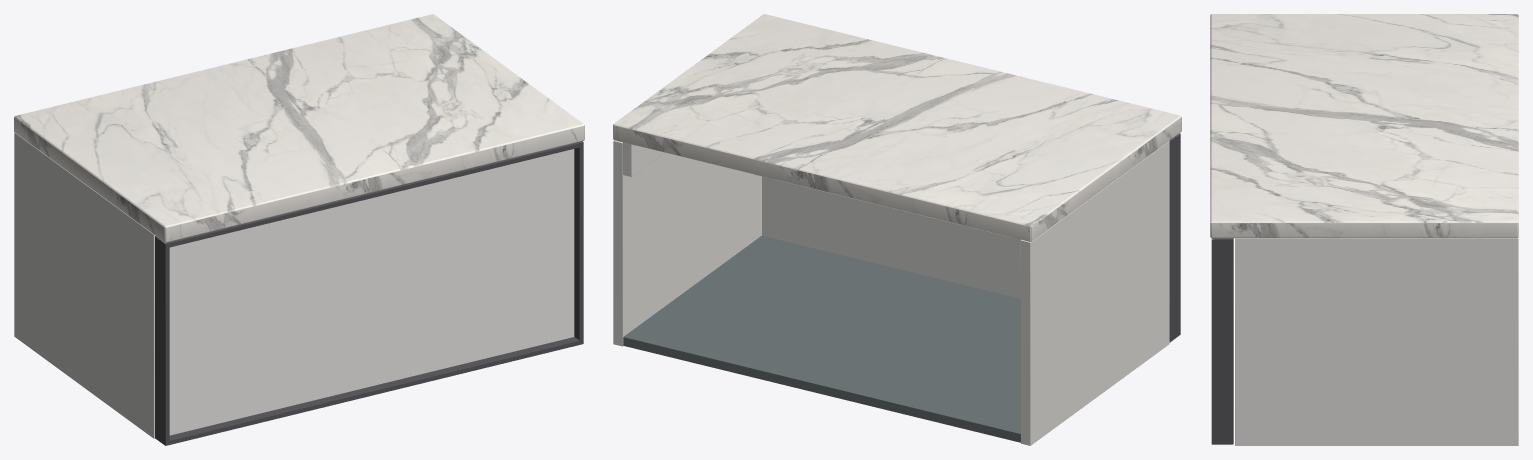
The picture shows the model from 3 angles, left to right: view 1: azimuth 30°, elevation 25°; view 2: azimuth 150°, elevation 25°; view 3: azimuth 270°, elevation 25°; orthographic projection.
Visible parts, largest first — view 1: AT01; view 2: AT01; view 3: AT01.
Boxes of the visible parts, x1=… form: AT01: x1=14, y1=14, x2=584, y2=445; AT01: x1=613, y1=14, x2=1181, y2=445; AT01: x1=1210, y1=14, x2=1518, y2=445.
Bounding box in the file's own units: 0.782 × 0.393 × 0.489.
Materials: 5 (3 with a texture image).
